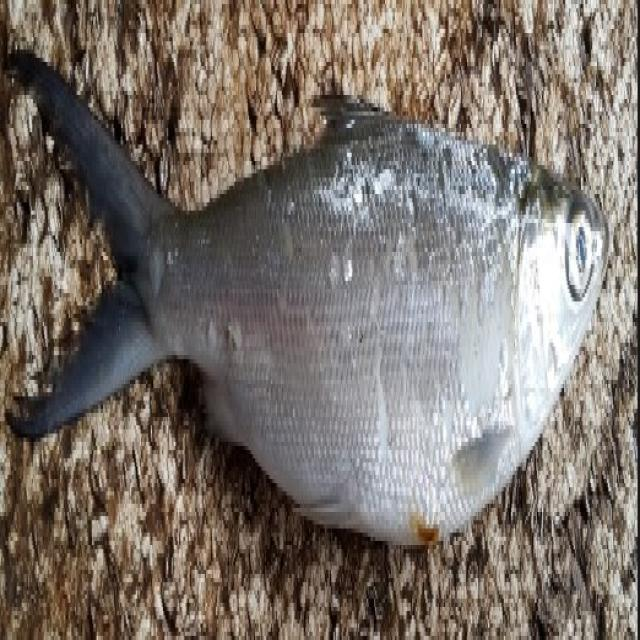Bangus: (6, 13, 627, 575)
